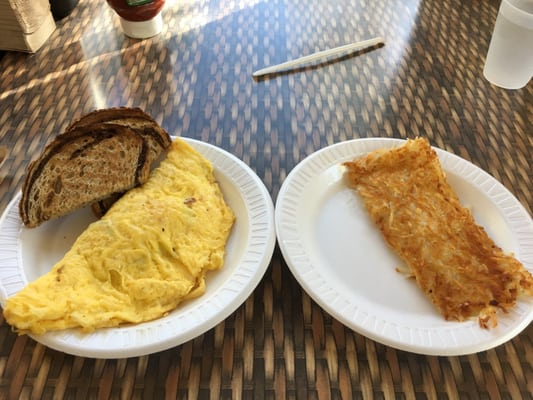pizza: (483, 0, 533, 90)
salad: (252, 36, 386, 80)
